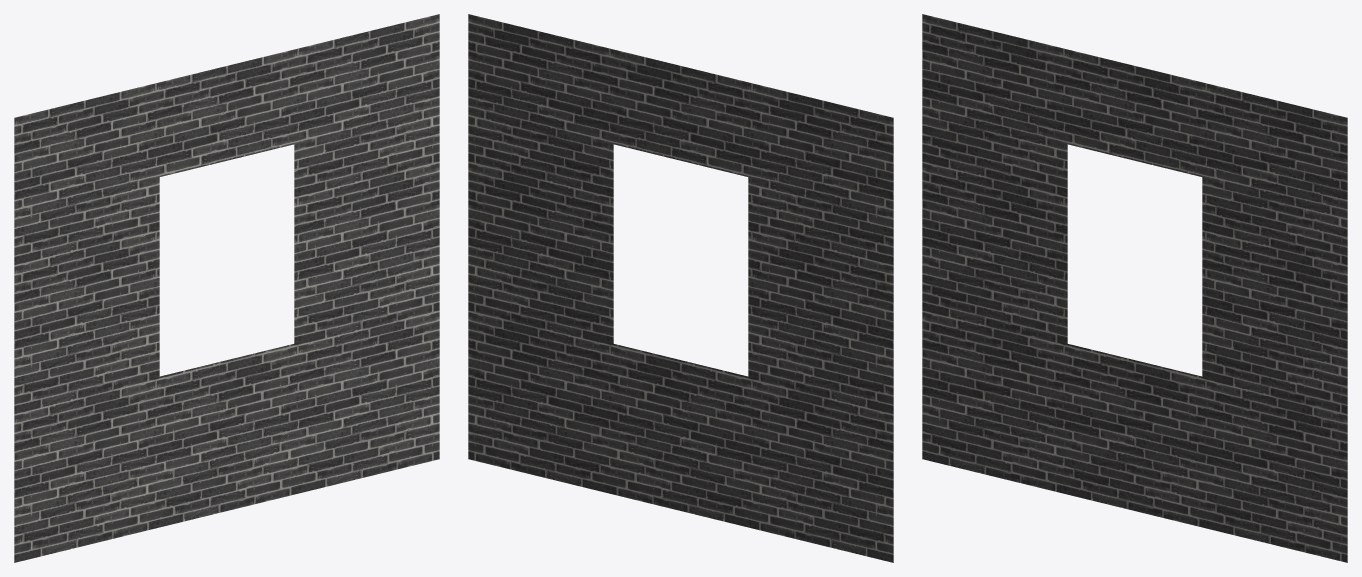
File: wallpaper_017.fbx
3 renders of one model, left to right at view 1: azimuth 30°, elevation 25°; view 2: azimuth 150°, elevation 25°; view 3: azimuth 330°, elevation 25°, orthographic.
Visible parts, largest first — view 1: wallpaper_017; view 2: wallpaper_017; view 3: wallpaper_017.
Boxes of the visible parts, <box> form: wallpaper_017: <box>14,14,439,562</box>; wallpaper_017: <box>468,14,893,562</box>; wallpaper_017: <box>922,14,1347,562</box>.
Size of the model in its own units: 400 by 4.77e-05 by 400.
